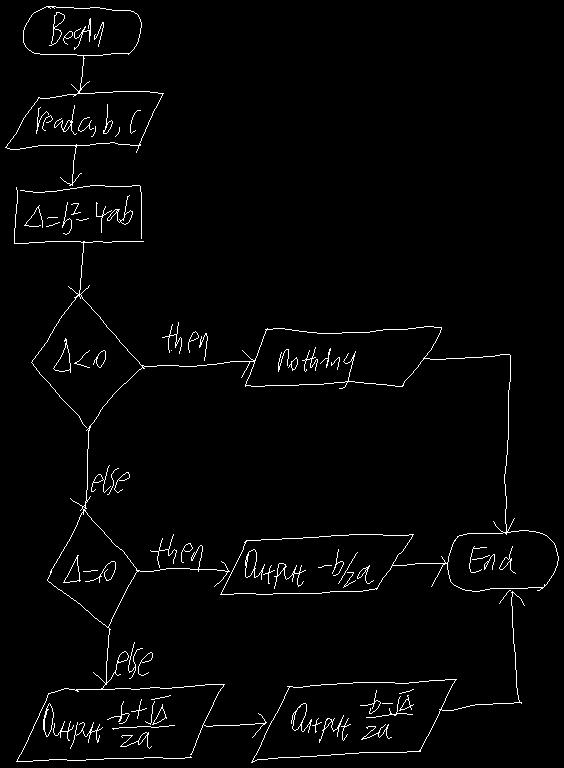arrow: (424, 354, 514, 534), (439, 590, 524, 710), (141, 350, 254, 377), (137, 561, 229, 586), (70, 426, 90, 510), (392, 556, 446, 586), (203, 713, 266, 737), (93, 628, 114, 688), (68, 241, 89, 297), (60, 144, 81, 185), (71, 56, 89, 96)
data: (251, 679, 456, 762), (16, 684, 224, 761), (245, 326, 441, 386), (220, 534, 413, 594), (5, 91, 163, 152)
decision: (31, 294, 144, 430), (47, 508, 138, 629)
process: (14, 185, 143, 243)
terminator: (447, 530, 558, 591), (23, 6, 141, 55)
text: (43, 695, 174, 748), (291, 689, 413, 742), (245, 549, 373, 588), (24, 195, 132, 234), (36, 104, 140, 136), (278, 347, 355, 388), (49, 12, 103, 49), (150, 534, 202, 571), (53, 338, 105, 372), (162, 322, 207, 360), (63, 555, 115, 582), (115, 642, 152, 678), (469, 546, 515, 573), (91, 465, 129, 494)
